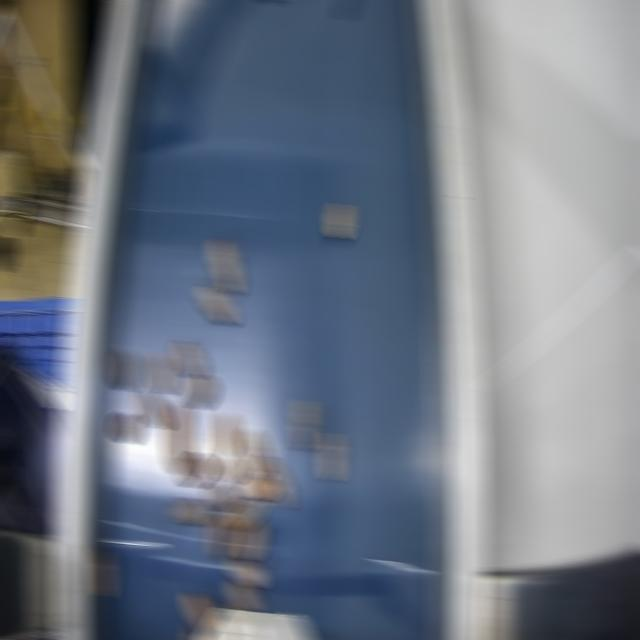Baby Potato: (167, 401, 190, 473), (211, 239, 238, 294), (260, 456, 289, 507), (199, 285, 232, 324), (185, 592, 216, 631), (224, 496, 259, 529), (179, 452, 212, 487), (208, 513, 233, 559), (240, 429, 265, 475), (230, 558, 265, 588), (137, 392, 166, 428), (320, 432, 341, 480), (175, 340, 202, 377), (295, 399, 314, 450), (91, 550, 112, 596), (238, 521, 263, 559), (172, 498, 207, 525), (111, 348, 134, 389), (186, 374, 213, 408), (214, 412, 235, 455), (229, 580, 258, 610), (150, 352, 171, 393), (207, 482, 236, 511), (242, 475, 273, 501), (113, 412, 138, 442), (213, 456, 240, 483), (330, 203, 349, 239), (236, 621, 261, 639), (185, 623, 204, 639)
